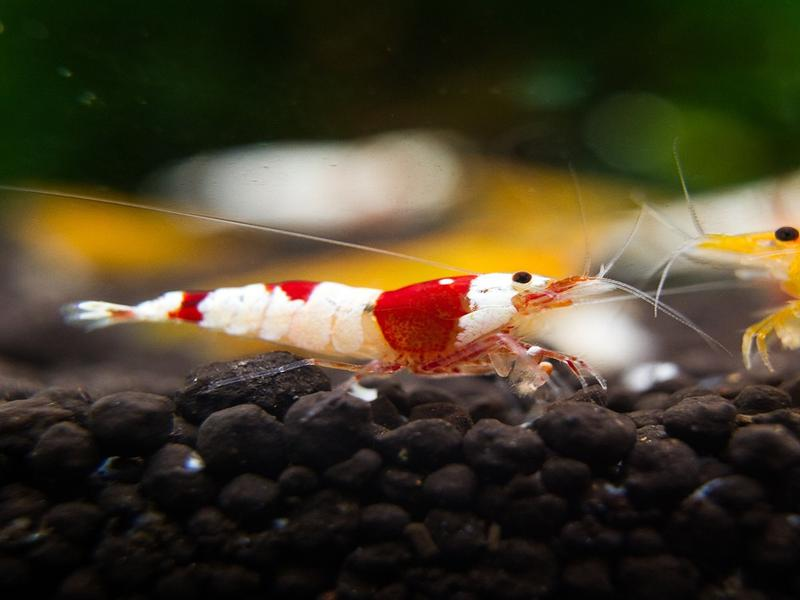shrimp: (59, 268, 619, 393)
